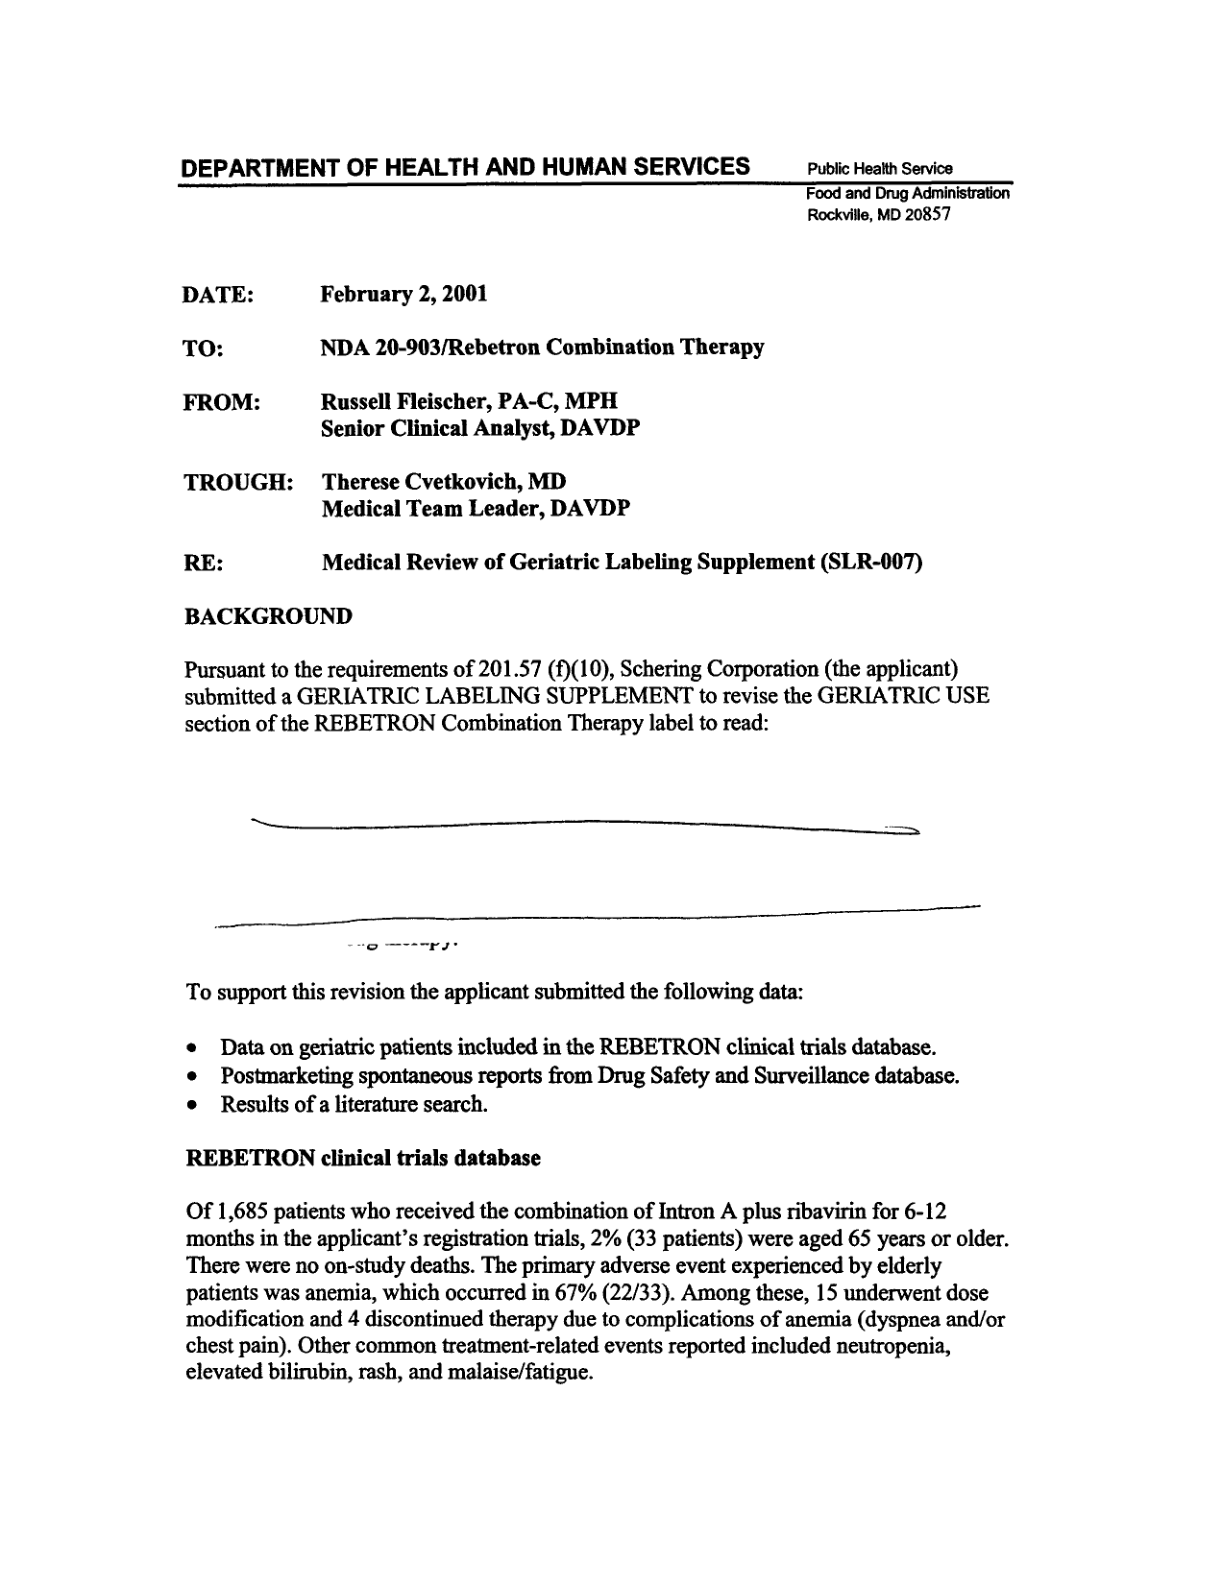nolines: (178, 279, 925, 580)
